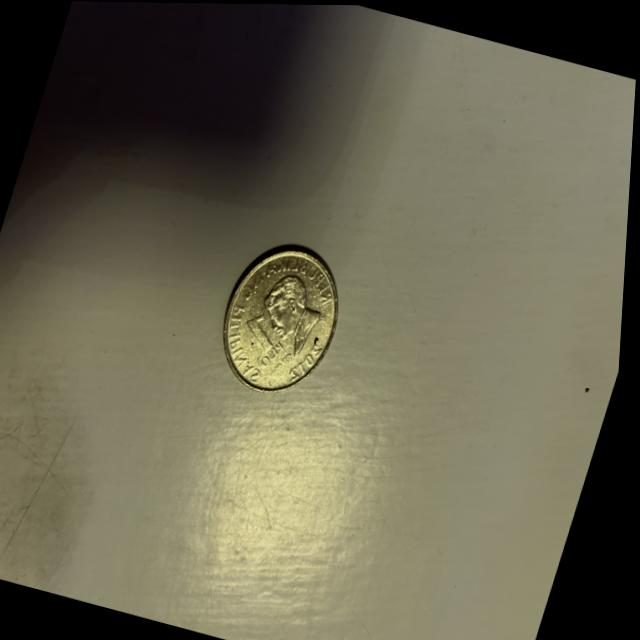1_Old_Front: (233, 304, 297, 375)
